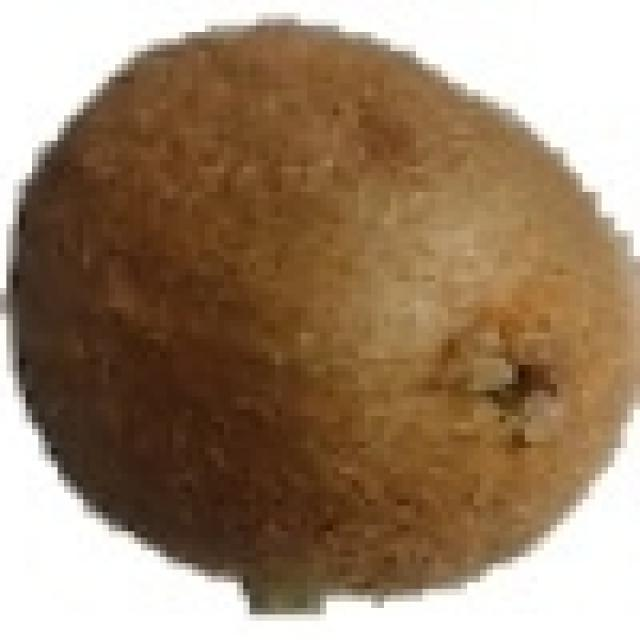kiwi: (26, 19, 640, 602)
